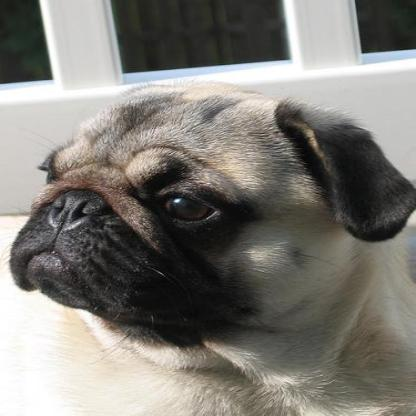pug: (5, 78, 413, 414)
